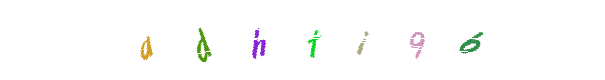9: (338, 0, 418, 80)
A: (106, 0, 186, 80)
B: (377, 0, 457, 80)
D: (163, 0, 243, 80)
H: (218, 0, 298, 80)
I: (280, 0, 360, 80)
T: (262, 0, 342, 80)
